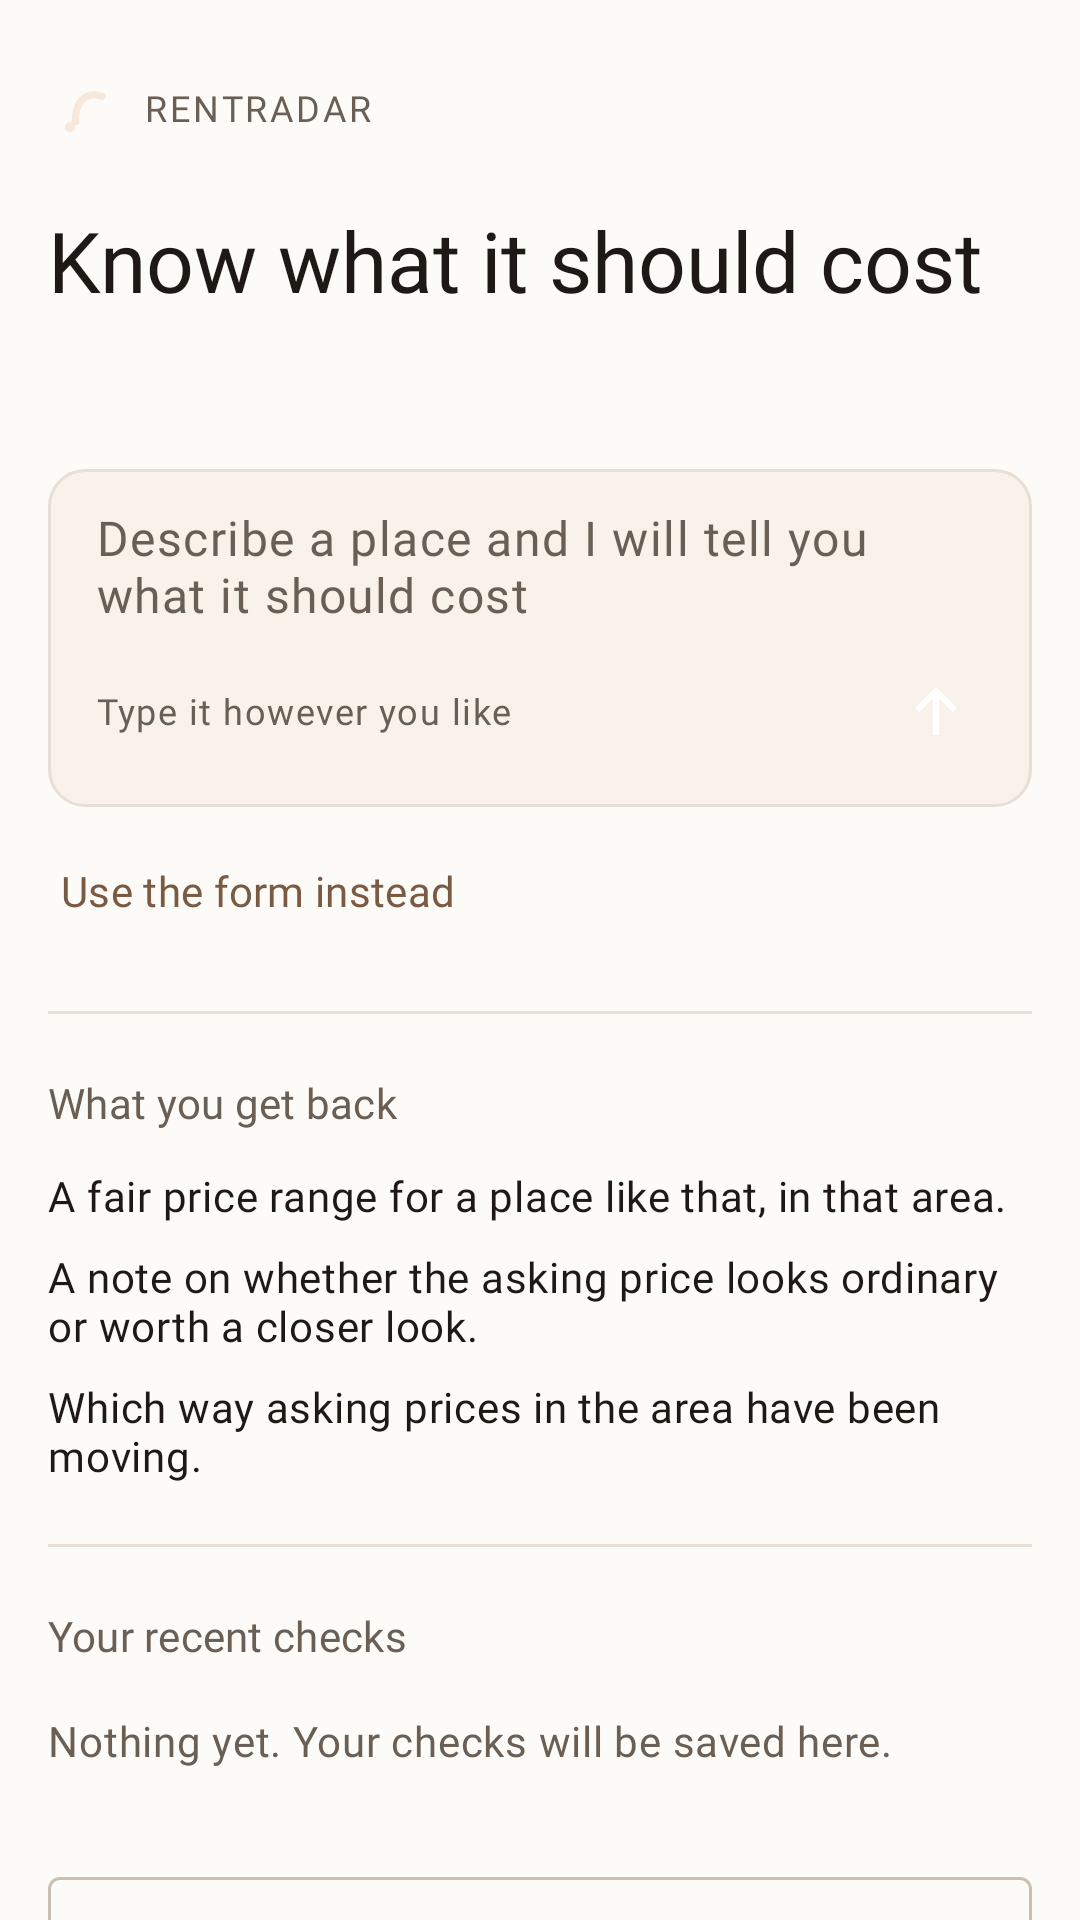

Screen size 1080×1920. Icon name, then its center in pixels as (x=x, y=y):
brand glyph: (x=85, y=112)
